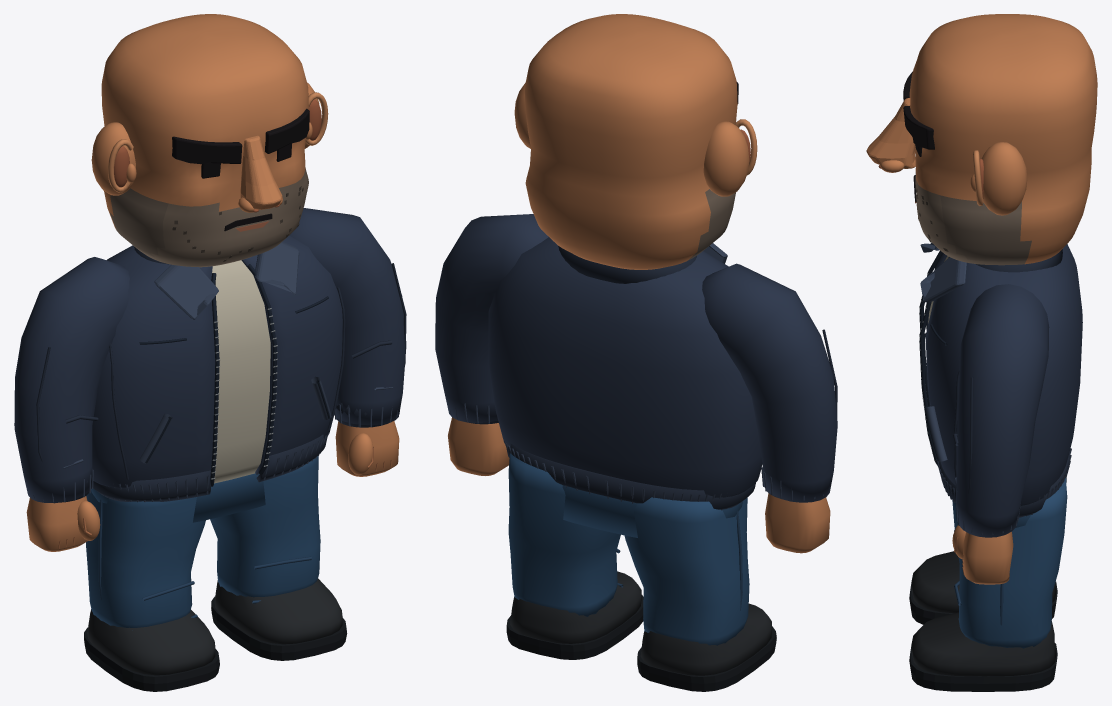
File: actor-volume-study-03.glb
The picture shows the model from 3 angles, left to right: view 1: azimuth 30°, elevation 25°; view 2: azimuth 150°, elevation 25°; view 3: azimuth 270°, elevation 25°; orthographic projection. The views are drawn at different scales.
Visible parts, largest first — view 1: Continuous rounded skull and jaw, Open padded bomber shell, Left padded sleeve, Right padded sleeve, Left shaped trouser leg, Right shaped trouser leg, Full cotton torso, Left leather shoe, Right leather shoe, Bomber knitted hem, Left closed hand, Denim hips (+13 smaller); view 2: Open padded bomber shell, Continuous rounded skull and jaw, Left padded sleeve, Left shaped trouser leg, Right padded sleeve, Right shaped trouser leg, Left leather shoe, Right leather shoe, Bomber knitted hem, Left closed hand, Right closed hand, Denim hips (+4 smaller); view 3: Continuous rounded skull and jaw, Right padded sleeve, Open padded bomber shell, Right shaped trouser leg, Right leather shoe, Right ear, Right shoe sole, Left leather shoe, Right closed hand, Sculpted nose bridge and tip, Folded bomber collar 1, Bomber knitted hem (+7 smaller).
Part boxes in pixels (x1=…): Continuous rounded skull and jaw: x1=101, y1=14, x2=308, y2=267; Open padded bomber shell: x1=92, y1=235, x2=342, y2=487; Left padded sleeve: x1=14, y1=257, x2=129, y2=503; Right padded sleeve: x1=289, y1=208, x2=406, y2=425; Left shaped trouser leg: x1=86, y1=490, x2=205, y2=627; Right shaped trouser leg: x1=210, y1=456, x2=320, y2=597; Full cotton torso: x1=212, y1=260, x2=270, y2=483; Left leather shoe: x1=87, y1=609, x2=215, y2=675; Right leather shoe: x1=214, y1=578, x2=342, y2=644; Bomber knitted hem: x1=93, y1=434, x2=327, y2=501; Left closed hand: x1=26, y1=496, x2=87, y2=551; Denim hips: x1=91, y1=473, x2=265, y2=522; Open padded bomber shell: x1=488, y1=237, x2=762, y2=497; Continuous rounded skull and jaw: x1=524, y1=14, x2=737, y2=269; Left padded sleeve: x1=702, y1=263, x2=837, y2=502; Left shaped trouser leg: x1=624, y1=497, x2=749, y2=645; Right padded sleeve: x1=435, y1=214, x2=548, y2=422; Right shaped trouser leg: x1=508, y1=453, x2=620, y2=616; Left leather shoe: x1=640, y1=603, x2=771, y2=675; Right leather shoe: x1=510, y1=571, x2=641, y2=643; Bomber knitted hem: x1=506, y1=443, x2=755, y2=509; Left closed hand: x1=765, y1=493, x2=830, y2=553; Right closed hand: x1=448, y1=417, x2=509, y2=475; Denim hips: x1=562, y1=485, x2=742, y2=537; Continuous rounded skull and jaw: x1=909, y1=14, x2=1097, y2=265; Right padded sleeve: x1=956, y1=284, x2=1049, y2=537; Open padded bomber shell: x1=925, y1=244, x2=1082, y2=505; Right shaped trouser leg: x1=952, y1=478, x2=1067, y2=648; Right leather shoe: x1=911, y1=612, x2=1056, y2=676; Right ear: x1=981, y1=142, x2=1027, y2=215; Right shoe sole: x1=909, y1=643, x2=1057, y2=691; Left leather shoe: x1=911, y1=551, x2=1056, y2=613; Right closed hand: x1=963, y1=531, x2=1013, y2=584; Sculpted nose bridge and tip: x1=866, y1=98, x2=915, y2=168; Folded bomber collar 1: x1=920, y1=257, x2=966, y2=302; Bomber knitted hem: x1=939, y1=448, x2=1070, y2=517.
Size of the model in its own units: 3.02 by 4.53 by 1.57.
